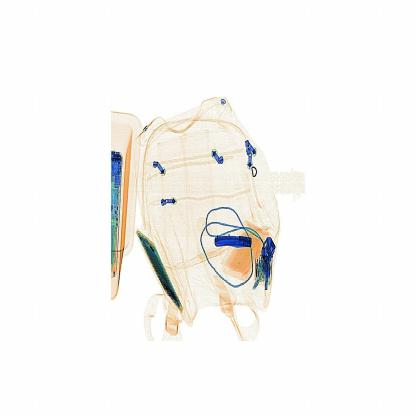knife: (206, 230, 265, 262)
